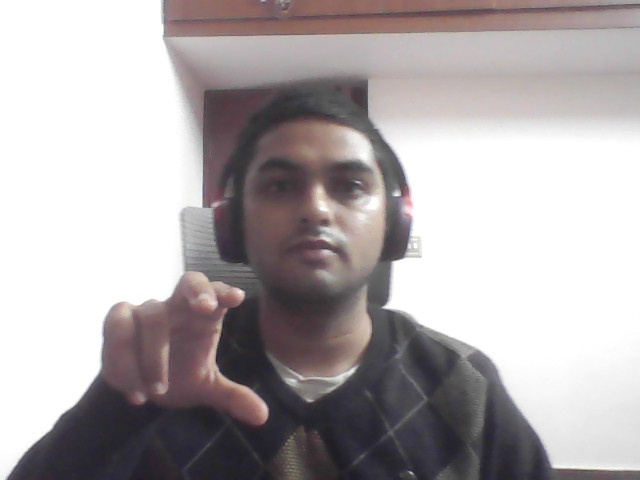NO: (86, 260, 282, 435)
